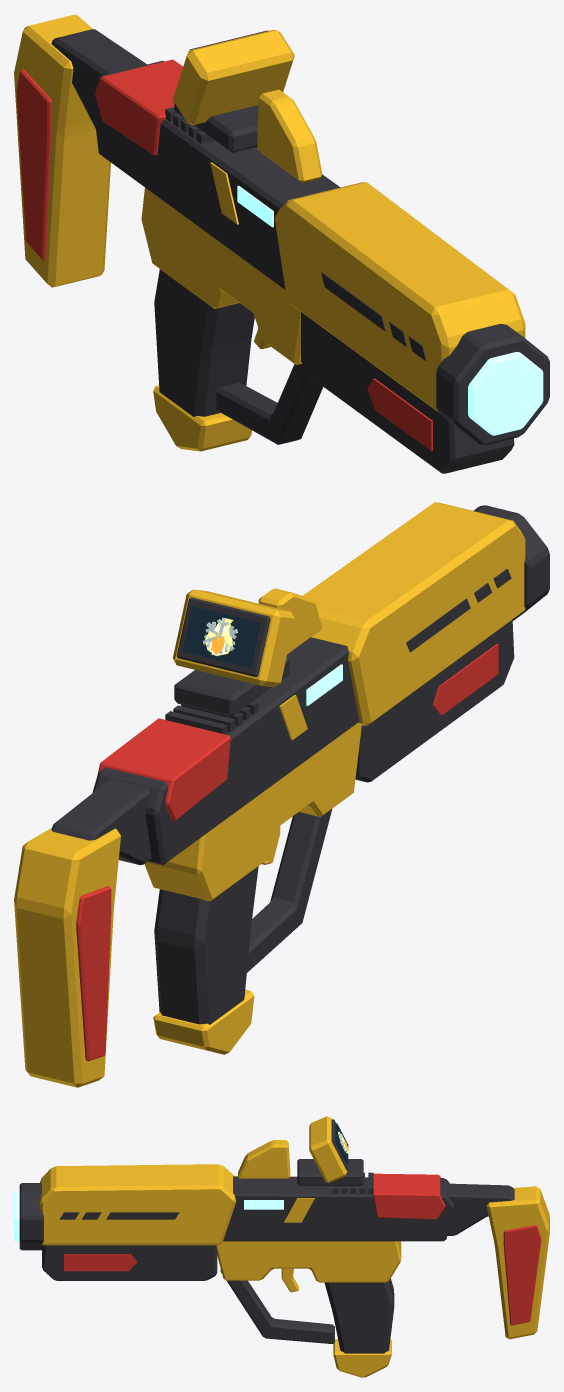
The model's file is ElementGun.fbx.
3 views of the same model, one above another, from view 1: azimuth 30°, elevation 25°; view 2: azimuth 150°, elevation 25°; view 3: azimuth 270°, elevation 25° (orthographic). The views are drawn at different scales.
Visible parts, largest first — view 1: Gun_Body; view 2: Gun_Body; view 3: Gun_Body.
Part boxes in pixels (x1,y1,x2,y2): Gun_Body: [14, 14, 549, 473]; Gun_Body: [14, 502, 549, 1087]; Gun_Body: [14, 1116, 549, 1377].
Size of the model in its own units: 0.0748 by 0.3153 by 0.63.
